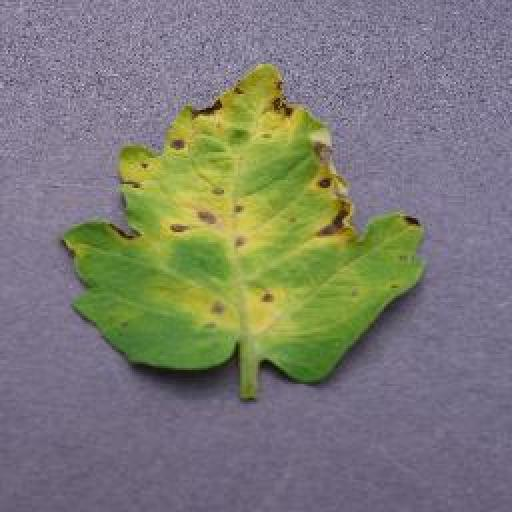Septoria: (59, 61, 424, 384)
